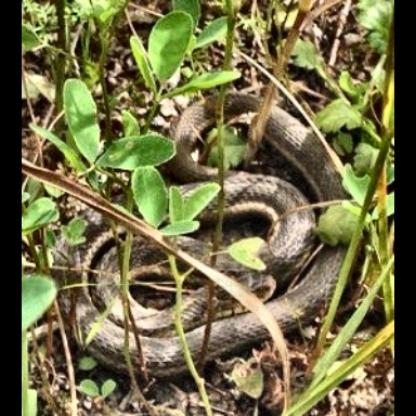Snake: (51, 93, 374, 378)
